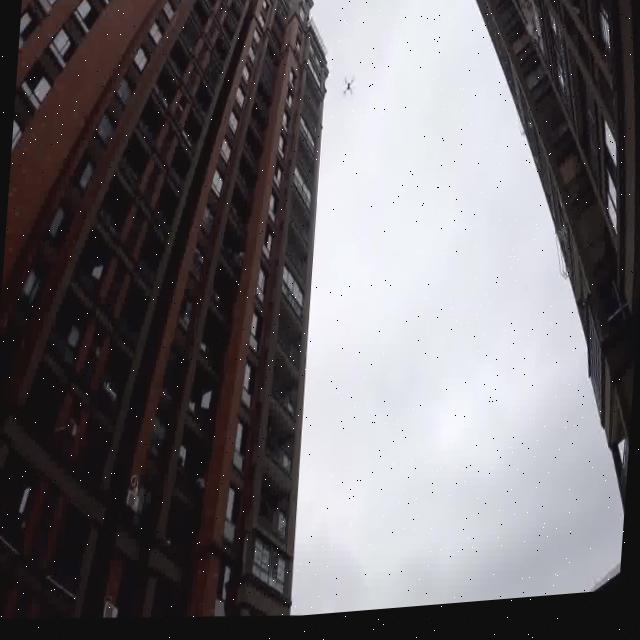drone: (336, 67, 366, 113)
